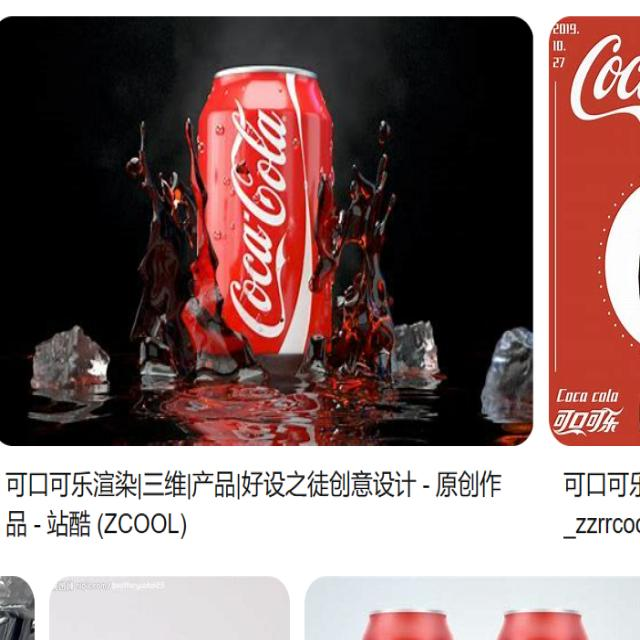coca_cola: (197, 70, 341, 363)
